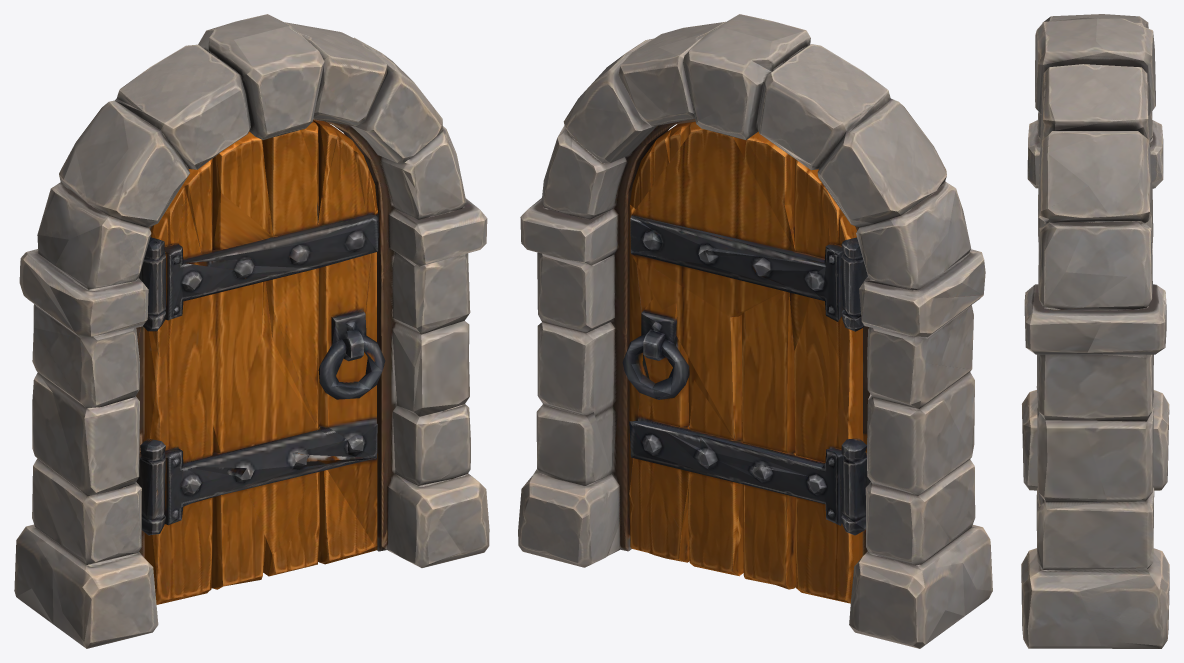
File: dungeon-door.hq.glb
3 views of the same model, side by side, from view 1: azimuth 30°, elevation 25°; view 2: azimuth 150°, elevation 25°; view 3: azimuth 270°, elevation 25° (orthographic). The views are drawn at different scales.
Parts seen in each view (by area): view 1: output_unwrapped; view 2: output_unwrapped; view 3: output_unwrapped.
Boxes of the visible parts, x1,y1,x2,y2 form: output_unwrapped: (14,14,489,648); output_unwrapped: (518,14,992,648); output_unwrapped: (1021,14,1169,648).
Bounding box in the file's own units: 1.5 × 1.9 × 0.4843.
Materials: 1 (1 with a texture image).
